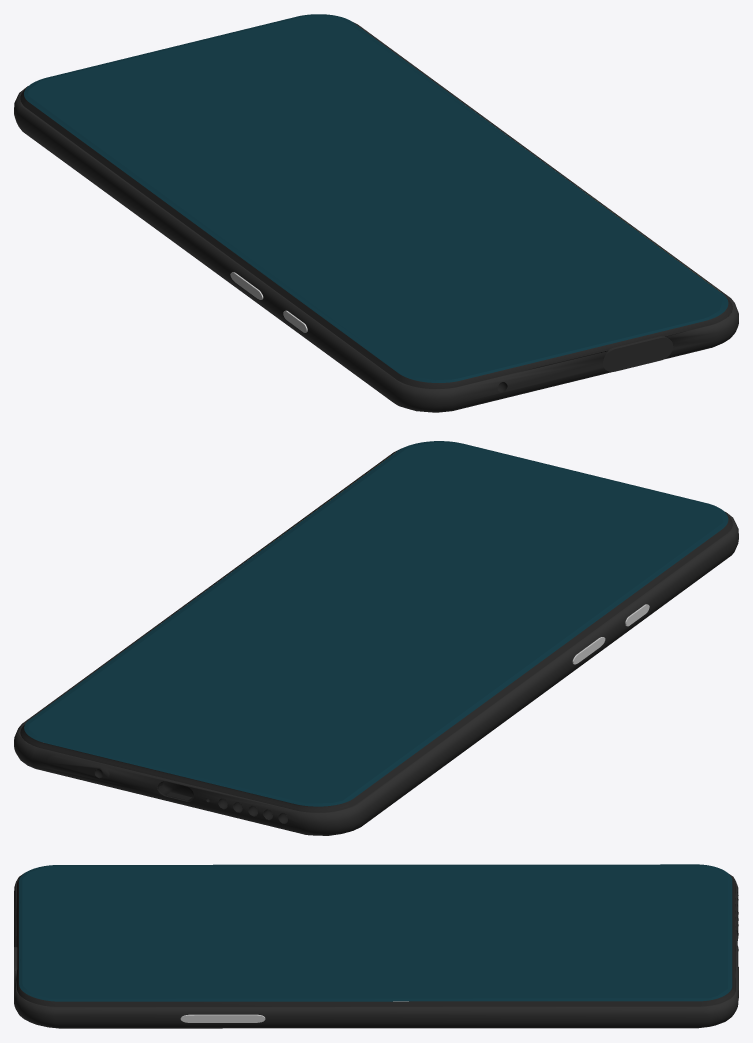
The model's file is Oneplus 7 Pro.glb.
3 views of the same model, one above another, from view 1: azimuth 30°, elevation 25°; view 2: azimuth 150°, elevation 25°; view 3: azimuth 270°, elevation 25° (orthographic). The views are drawn at different scales.
Parts seen in each view (by area): view 1: body.009, body.001, body.005, cam.001; view 2: body.009, body.001, body.005, body.007; view 3: body.009, body.001, body.005, body.011.
Boxes of the visible parts, bbox=[...] form: body.009: bbox=[24, 14, 728, 382]; body.001: bbox=[14, 22, 738, 412]; body.005: bbox=[20, 88, 732, 388]; cam.001: bbox=[603, 336, 673, 371]; body.009: bbox=[24, 441, 728, 806]; body.001: bbox=[14, 449, 738, 835]; body.005: bbox=[20, 511, 732, 812]; body.007: bbox=[94, 769, 287, 823]; body.009: bbox=[19, 864, 732, 1001]; body.001: bbox=[14, 873, 738, 1028]; body.005: bbox=[17, 874, 735, 1006]; body.011: bbox=[180, 1014, 265, 1022].
Size of the model in its own units: 0.0765 by 0.0084 by 0.1616.
